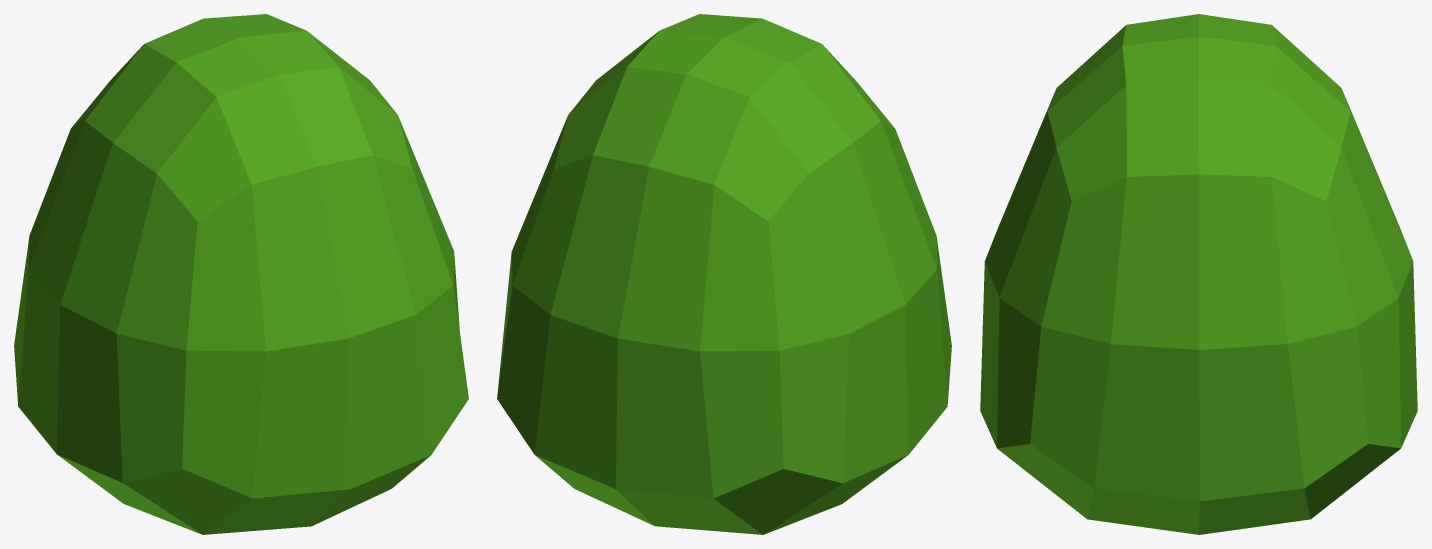
Rendered from Hedge2.glb.
3 views of the same model, side by side, from view 1: azimuth 30°, elevation 25°; view 2: azimuth 150°, elevation 25°; view 3: azimuth 270°, elevation 25° (orthographic).
Parts seen in each view (by area): view 1: bush2; view 2: bush2; view 3: bush2.
Part boxes in pixels (x1,y1,x2,y2): bush2: (14,14,468,534); bush2: (497,14,951,534); bush2: (980,14,1417,534).
Size of the model in its own units: 1.3 by 1.55 by 1.33.
